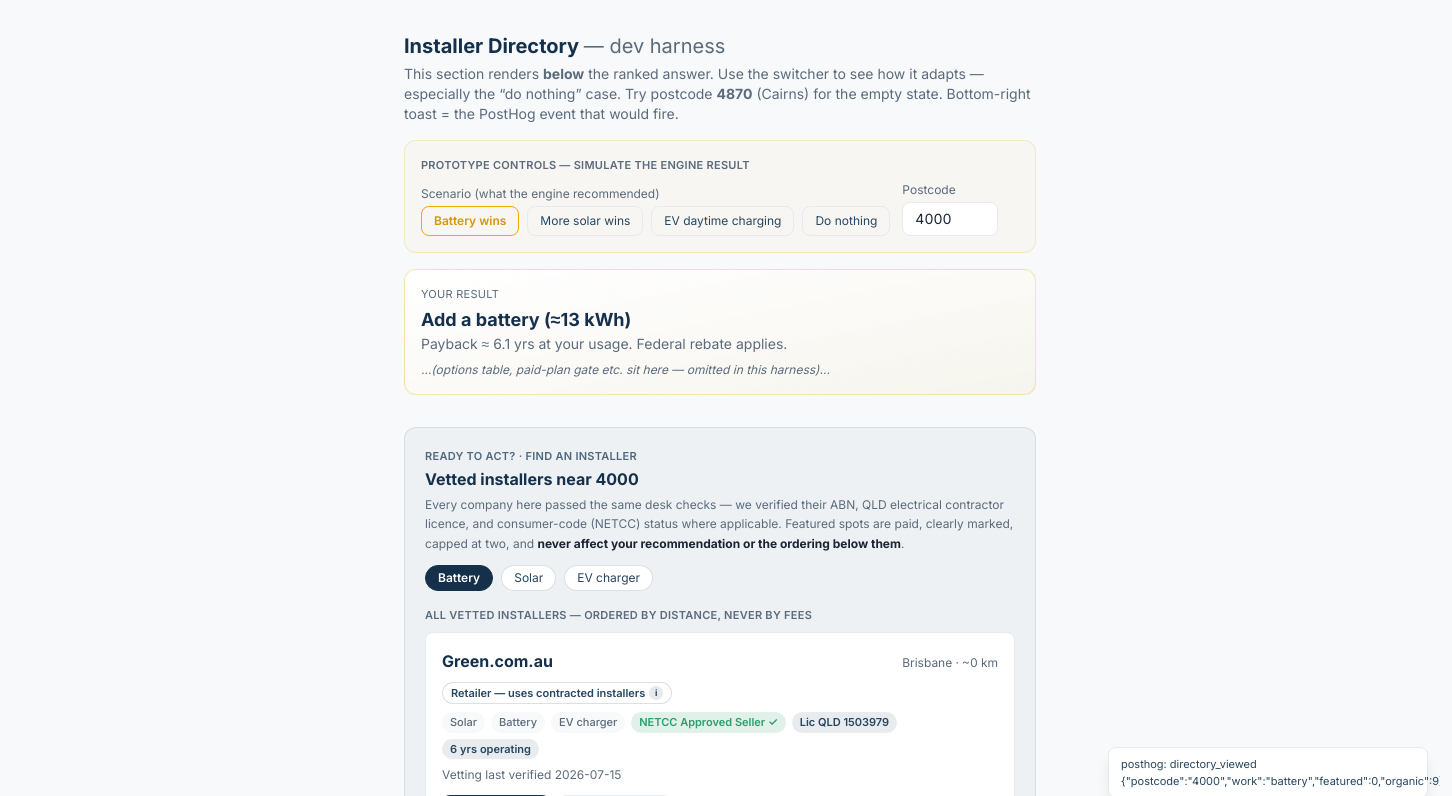
Scenario: directory — behaviour via the dev harness › "do nothing" collapses the section behind an explicit click
The width and height of the screenshot is (1452, 796).
Click the button with test id "scenario-nothing". click: click(846, 220)
box: [802,206,890,236]
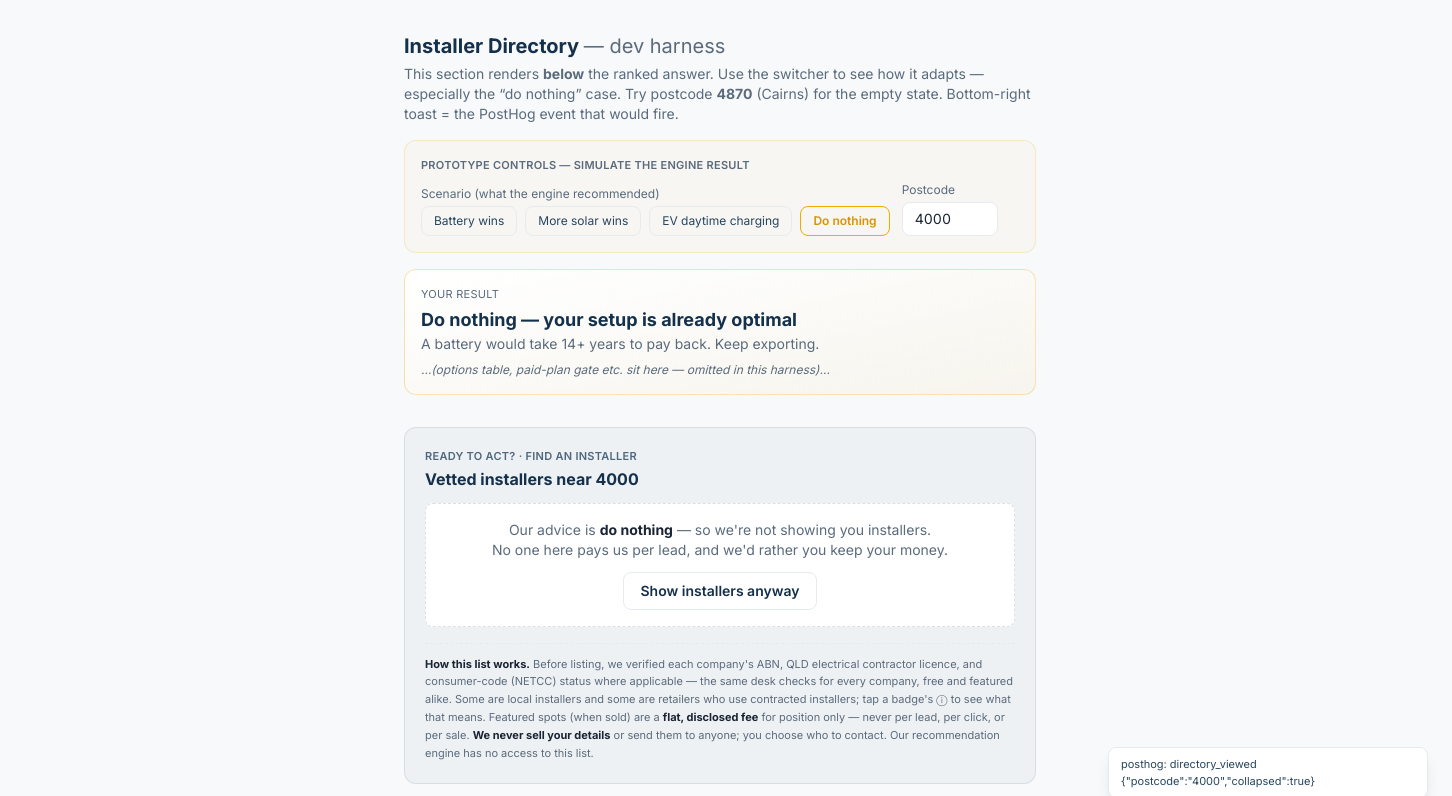
Result: the element with test id "do-nothing-collapse" is shown at [425,502,1015,626]
Click the button with test id "show-anyway". click: click(720, 590)
box: [624,572,816,610]
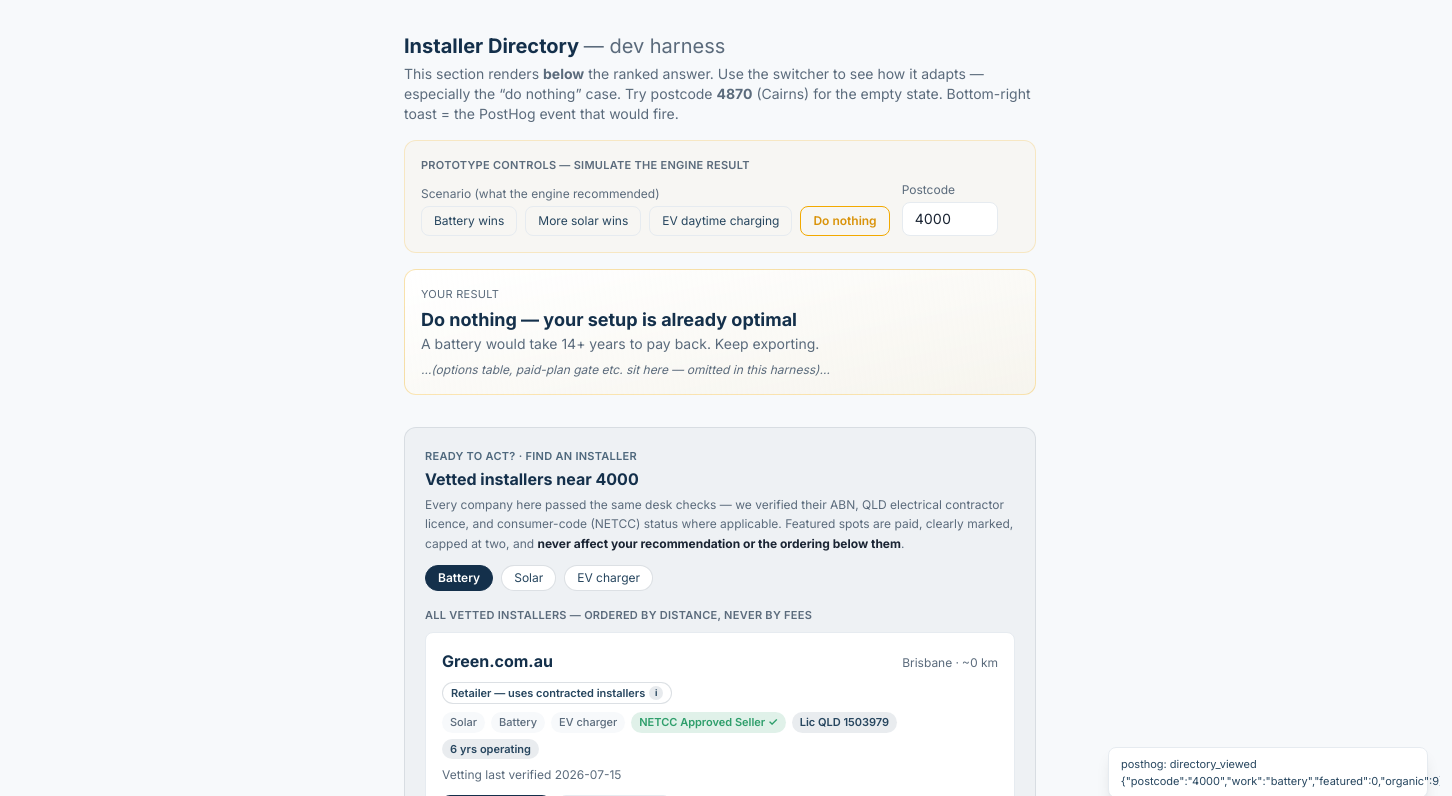
Result: the element with test id "do-nothing-collapse" is gone
Result: the element named "Work type" is shown at [425,565,653,591]
